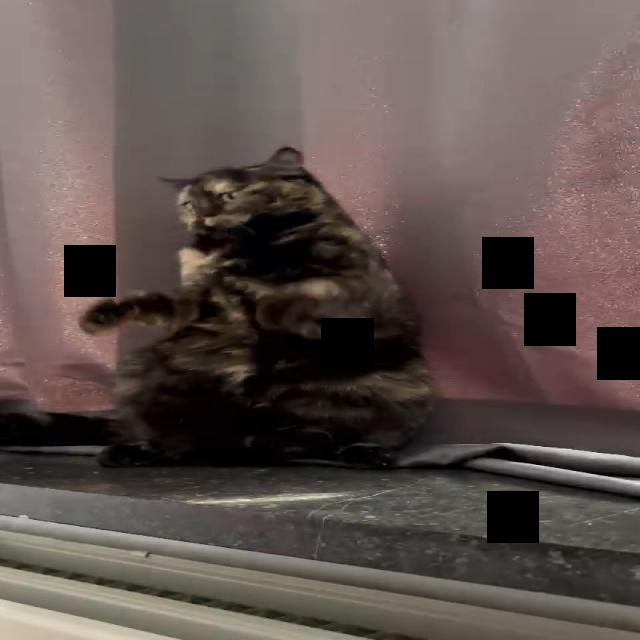authorized: (76, 145, 435, 469)
